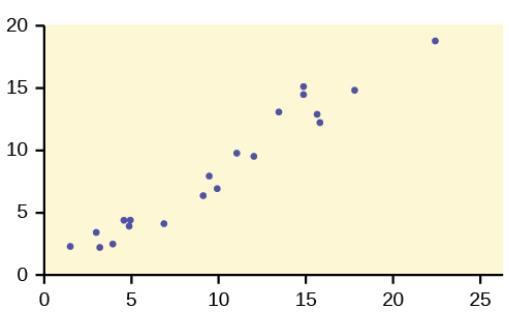axis: (33, 271, 505, 285), (33, 16, 50, 287)
point: (348, 82, 362, 95), (428, 34, 442, 46), (159, 217, 171, 229), (204, 170, 216, 182), (272, 106, 285, 117), (90, 227, 102, 238), (248, 151, 261, 161), (65, 241, 76, 252), (93, 242, 105, 252), (107, 239, 118, 249), (197, 190, 208, 200), (232, 147, 242, 158), (298, 81, 309, 91), (298, 91, 309, 101), (316, 118, 325, 129), (124, 224, 134, 233), (213, 184, 223, 193), (312, 109, 322, 118), (119, 215, 128, 224), (127, 214, 136, 223)
